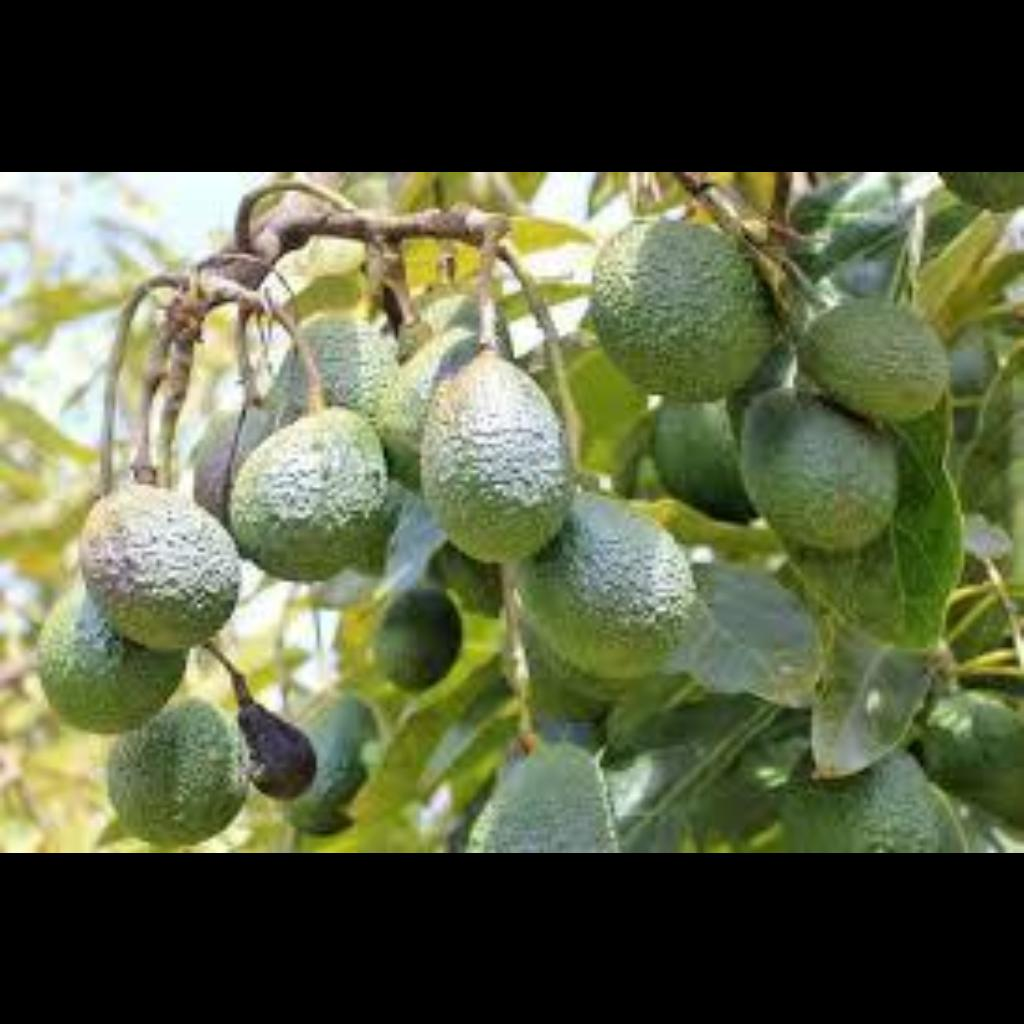Anthracnose: (64, 489, 178, 601), (226, 685, 322, 789)
